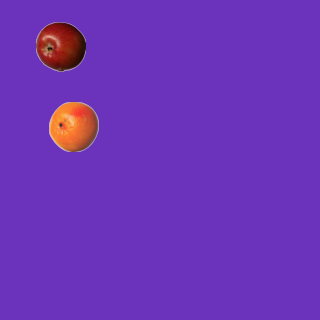Apple Braeburn: (35, 21, 85, 71)
Grapefruit Pink: (48, 101, 98, 151)
